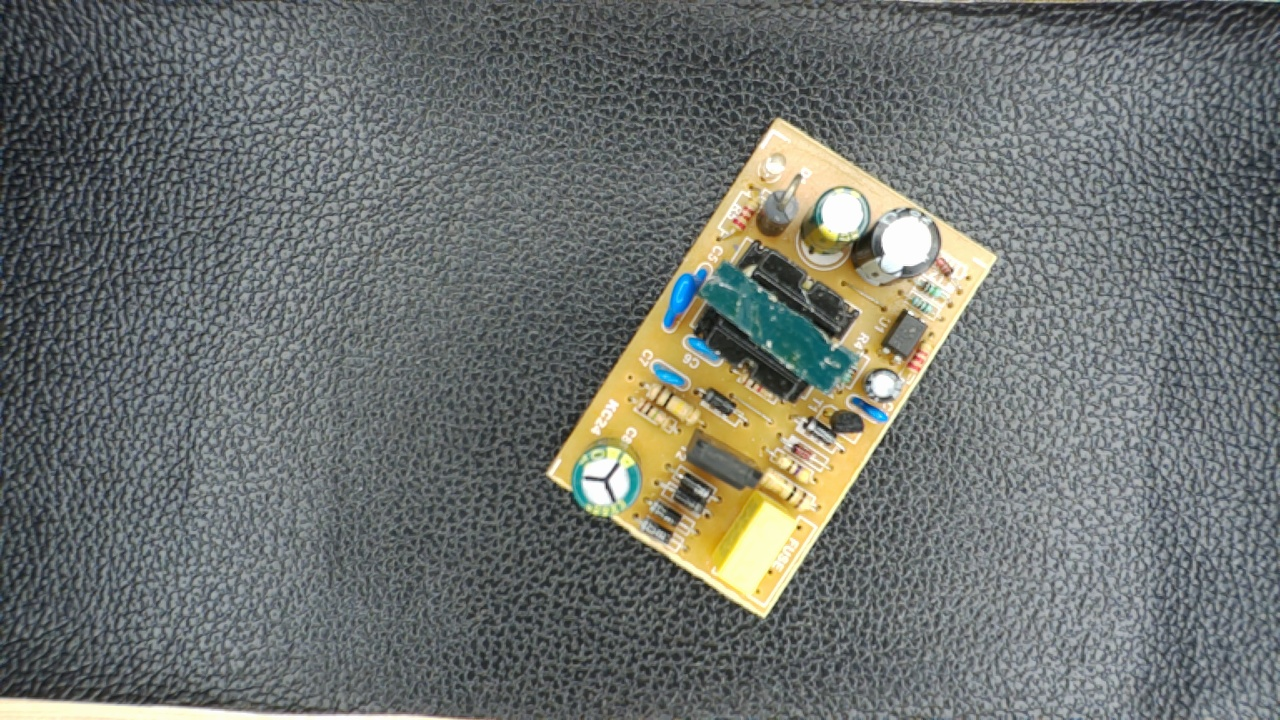hv_capacitor: (572, 438, 644, 518)
mov: (660, 263, 714, 330)
optocoupler: (882, 306, 927, 363)
